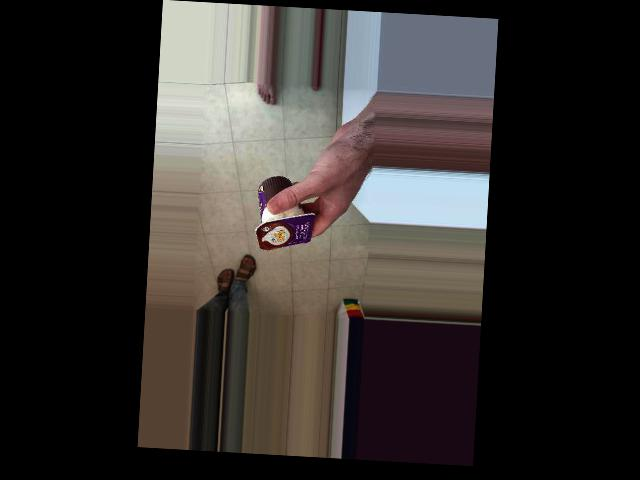milky: (259, 169, 320, 250)
